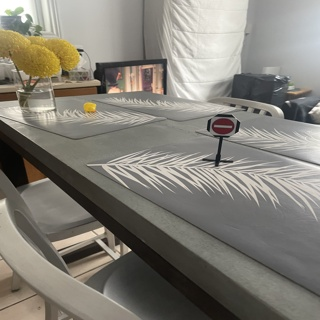sign_noentry: (209, 114, 234, 135)
